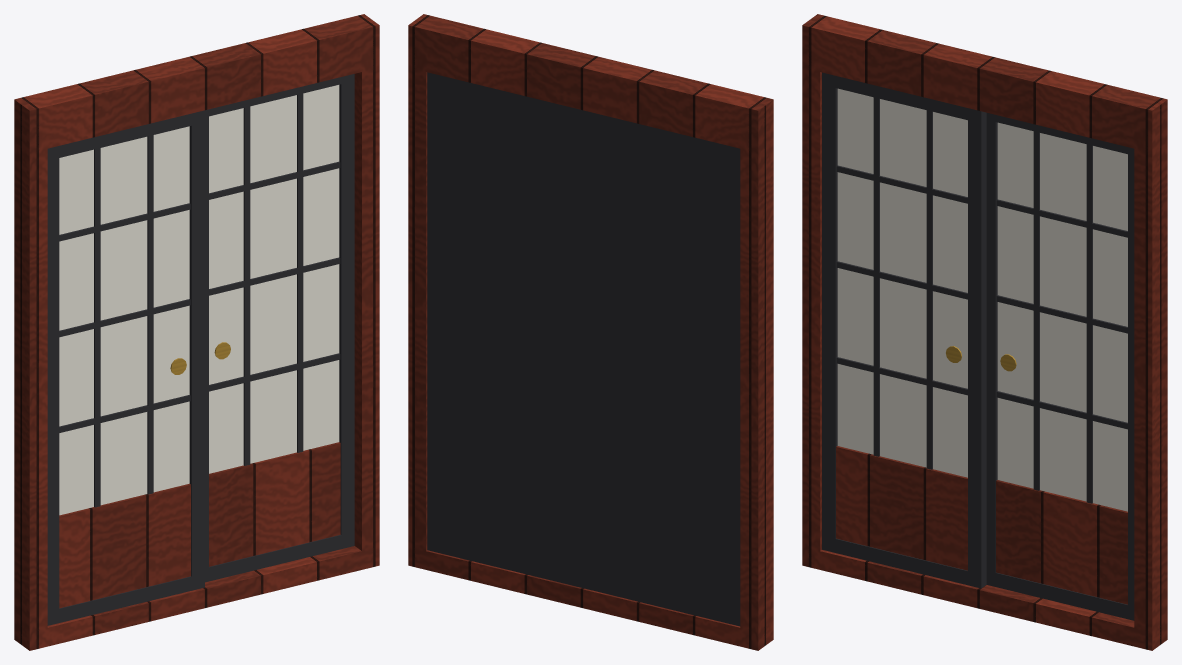
The model's file is ShojiDoor.fbx.
The picture shows the model from 3 angles, left to right: view 1: azimuth 30°, elevation 25°; view 2: azimuth 150°, elevation 25°; view 3: azimuth 330°, elevation 25°; orthographic projection.
Parts seen in each view (by area): view 1: ShojiDoor; view 2: ShojiDoor; view 3: ShojiDoor.
Boxes of the visible parts, x1=… form: ShojiDoor: x1=14, y1=14, x2=379, y2=650; ShojiDoor: x1=408, y1=14, x2=773, y2=650; ShojiDoor: x1=802, y1=14, x2=1167, y2=650.
Size of the model in its own units: 1.56 by 2.3 by 0.12.
Materials: 4 (2 with a texture image).
